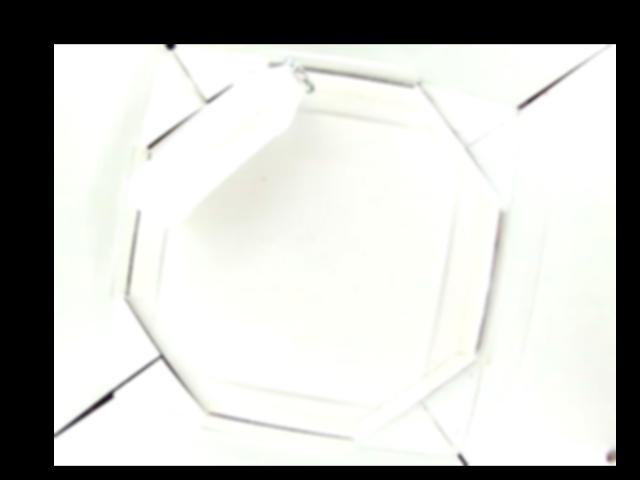Bottle: (128, 59, 317, 233)
